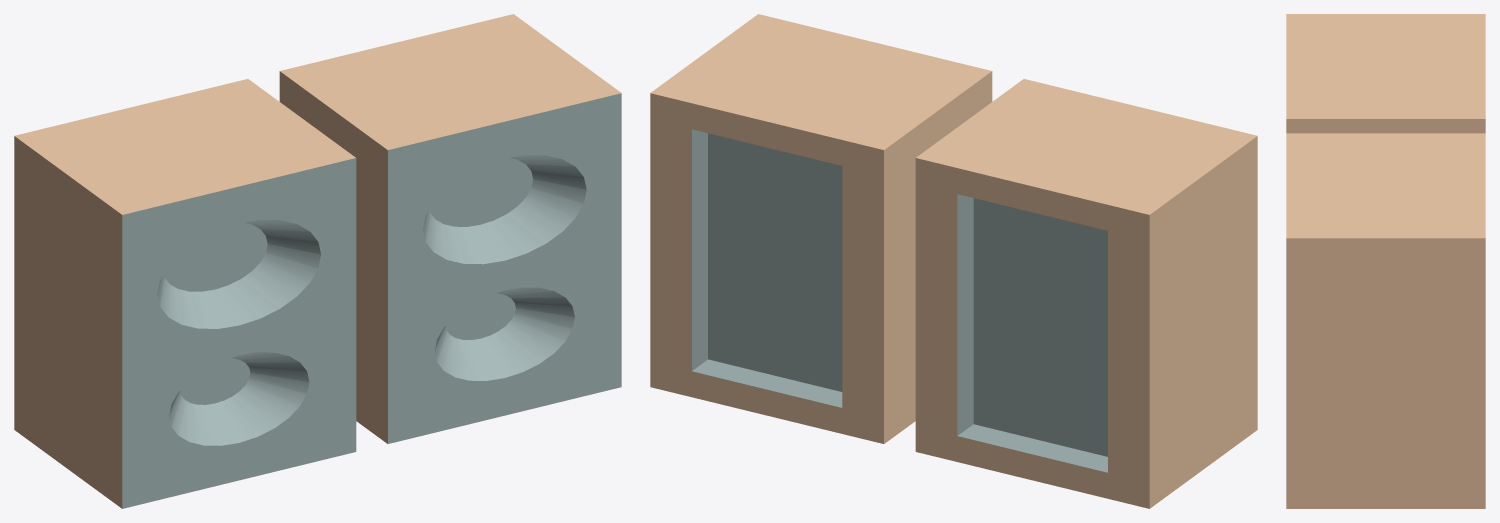
File: speakers.glb
The picture shows the model from 3 angles, left to right: view 1: azimuth 30°, elevation 25°; view 2: azimuth 150°, elevation 25°; view 3: azimuth 270°, elevation 25°; orthographic projection. The views are drawn at different scales.
Visible parts, largest first — view 1: speakerSmall(Clone), speakerSmall(Clone).001; view 2: speakerSmall(Clone), speakerSmall(Clone).001; view 3: speakerSmall(Clone).001, speakerSmall(Clone).
Boxes of the visible parts, <box> form: speakerSmall(Clone): <box>14,79,356,508</box>; speakerSmall(Clone).001: <box>279,14,621,443</box>; speakerSmall(Clone): <box>915,79,1257,508</box>; speakerSmall(Clone).001: <box>650,14,992,443</box>; speakerSmall(Clone).001: <box>1286,133,1485,508</box>; speakerSmall(Clone): <box>1286,14,1485,133</box>.
Size of the model in its own units: 0.32 by 0.18 by 0.12.
